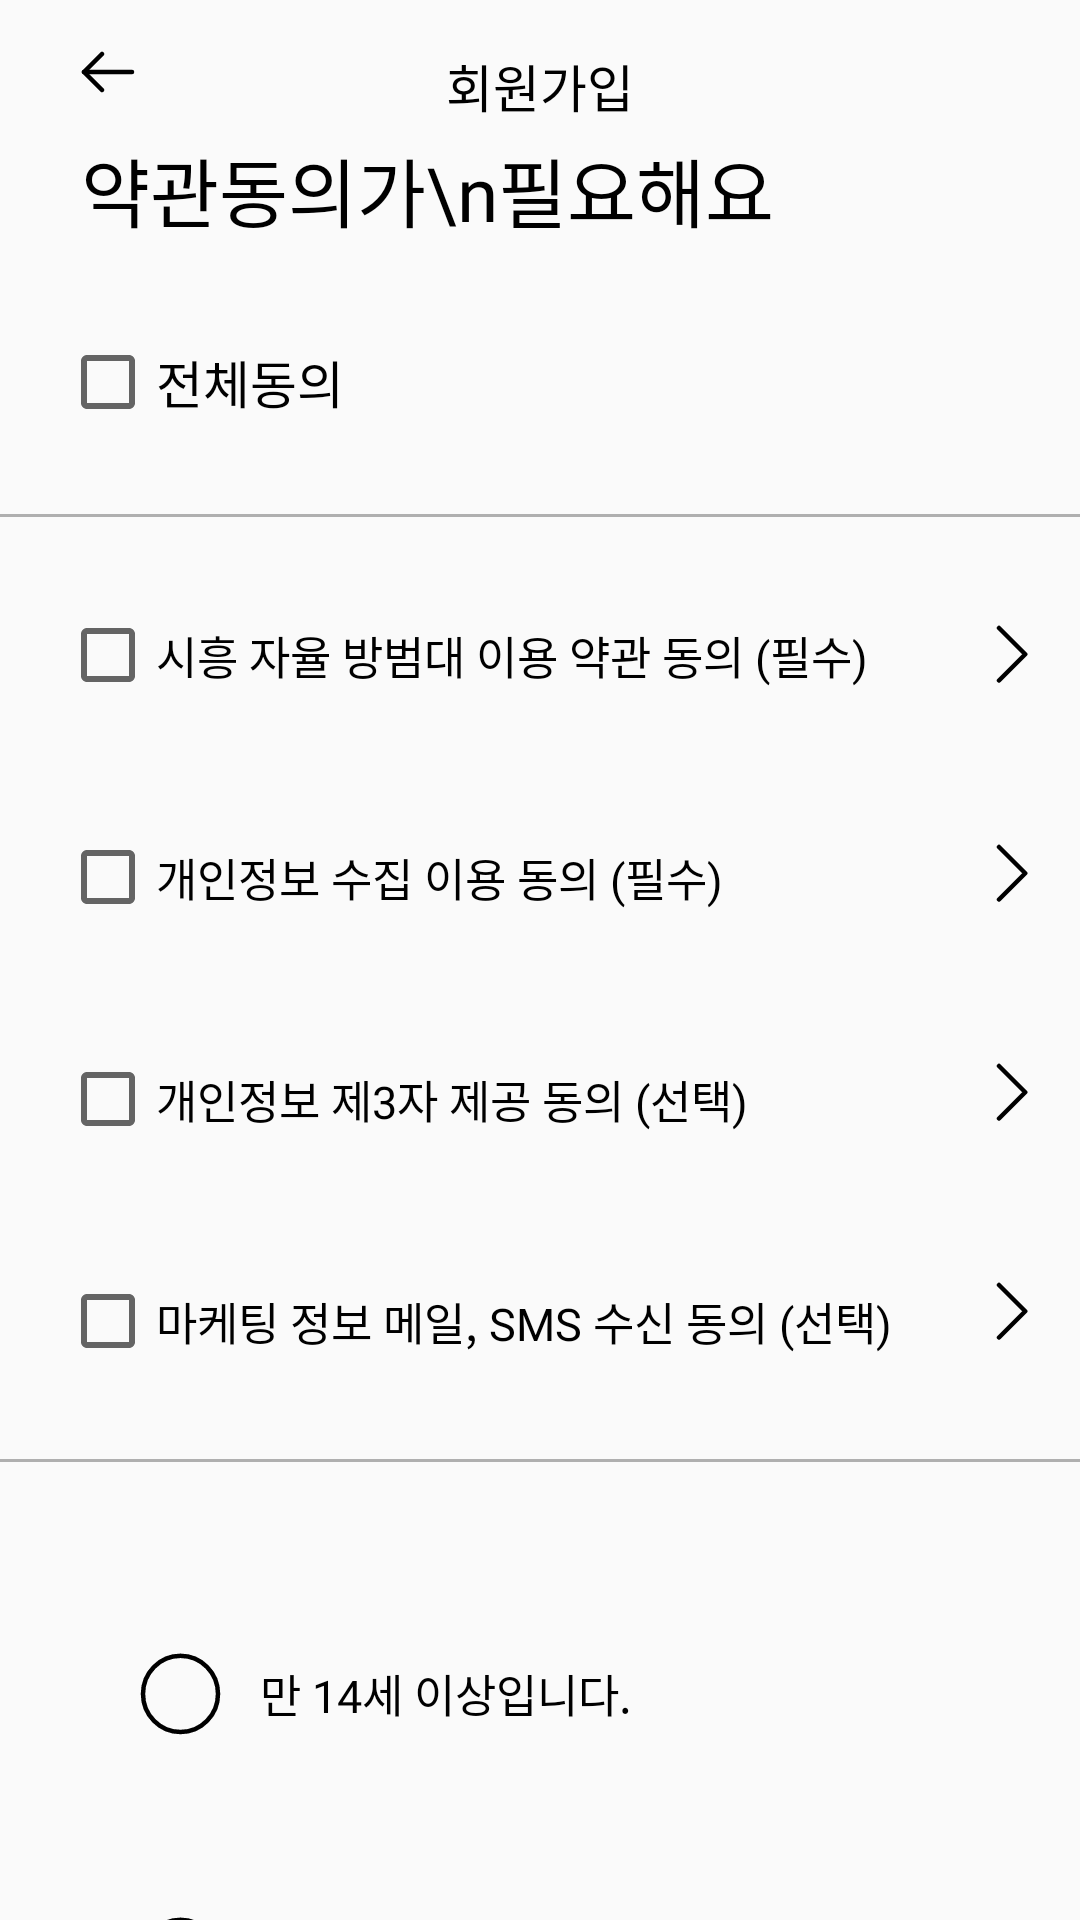

Point at icon controls on the screen. Image size 1080 × 1920, points as point (x, y).
left arrow: point (108, 72)
right angle bracket: point (1012, 654), point (1012, 873), point (1012, 1092), point (1012, 1311)
